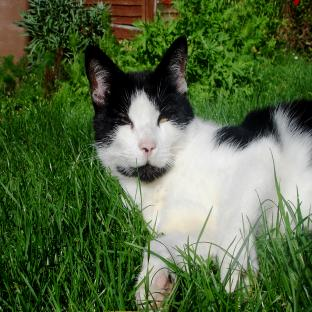Animal: (85, 36, 312, 309)
